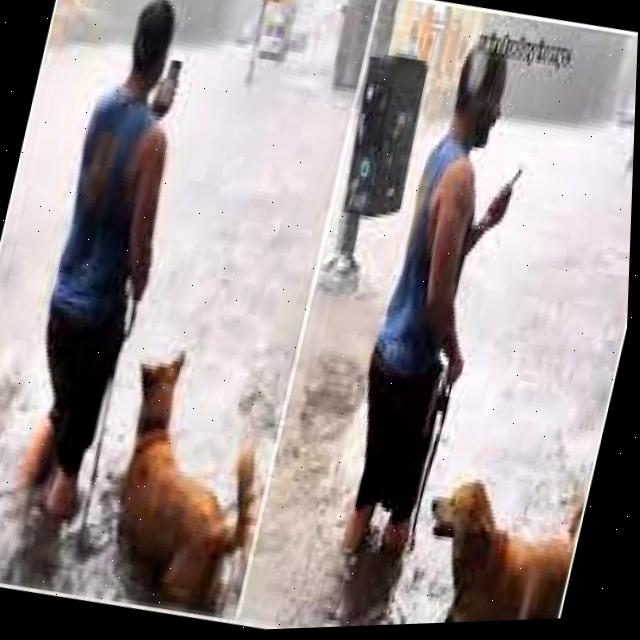civilian: (0, 0, 219, 547), (320, 36, 536, 574)
dog: (66, 334, 296, 631), (396, 458, 591, 624)
